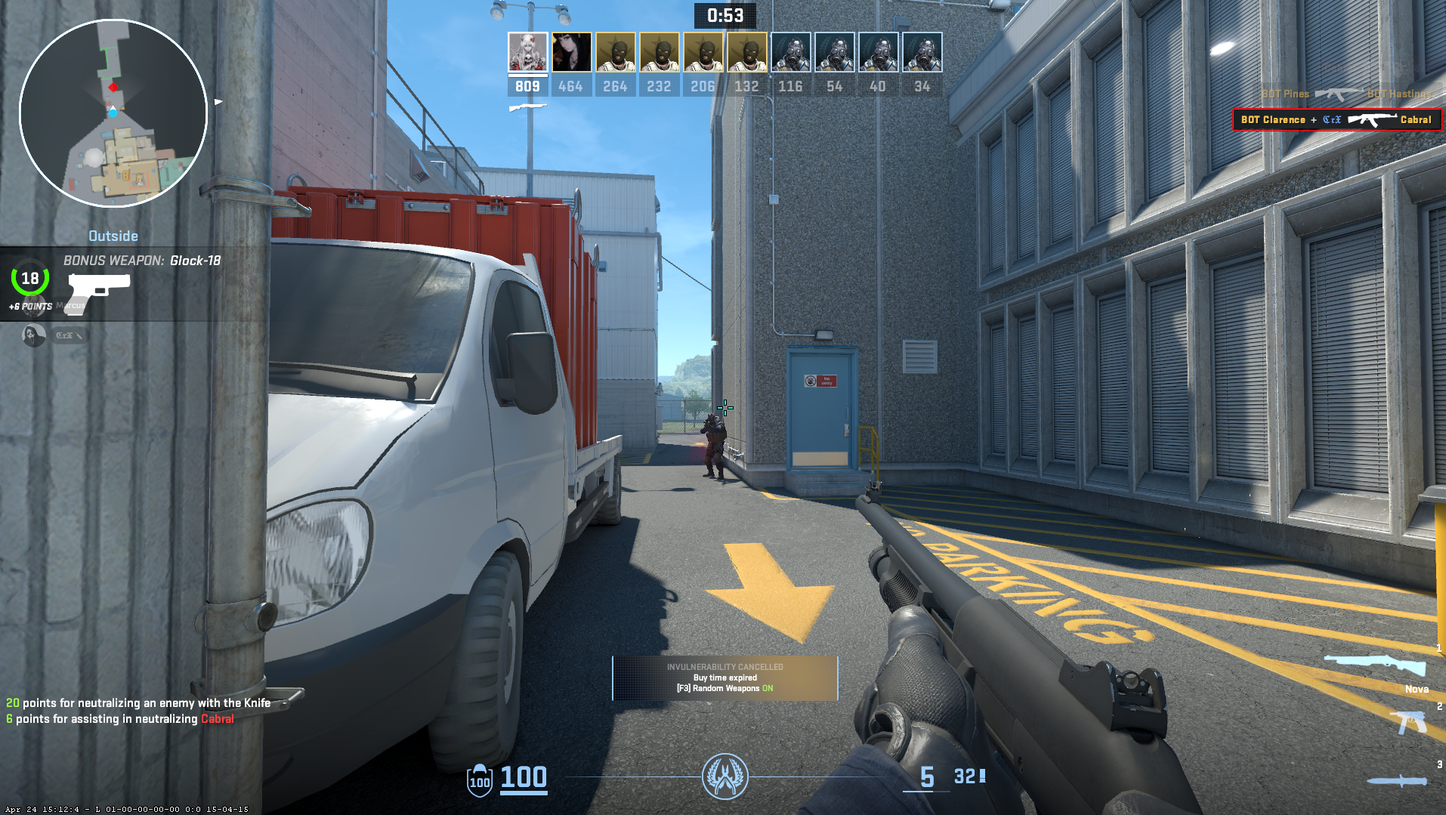CT: (700, 413, 727, 480)
